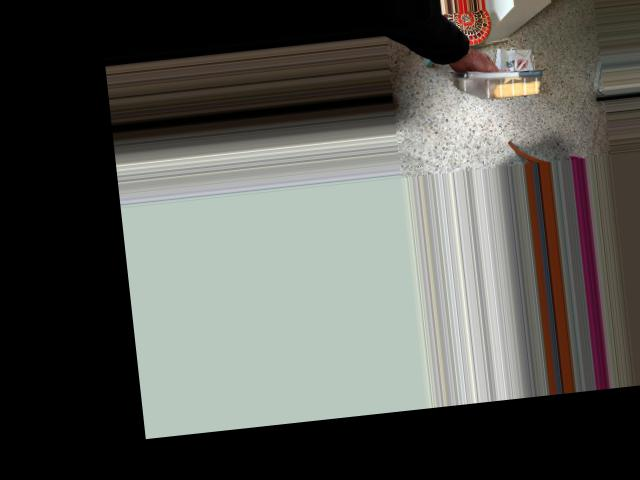cheese: (455, 45, 547, 113)
